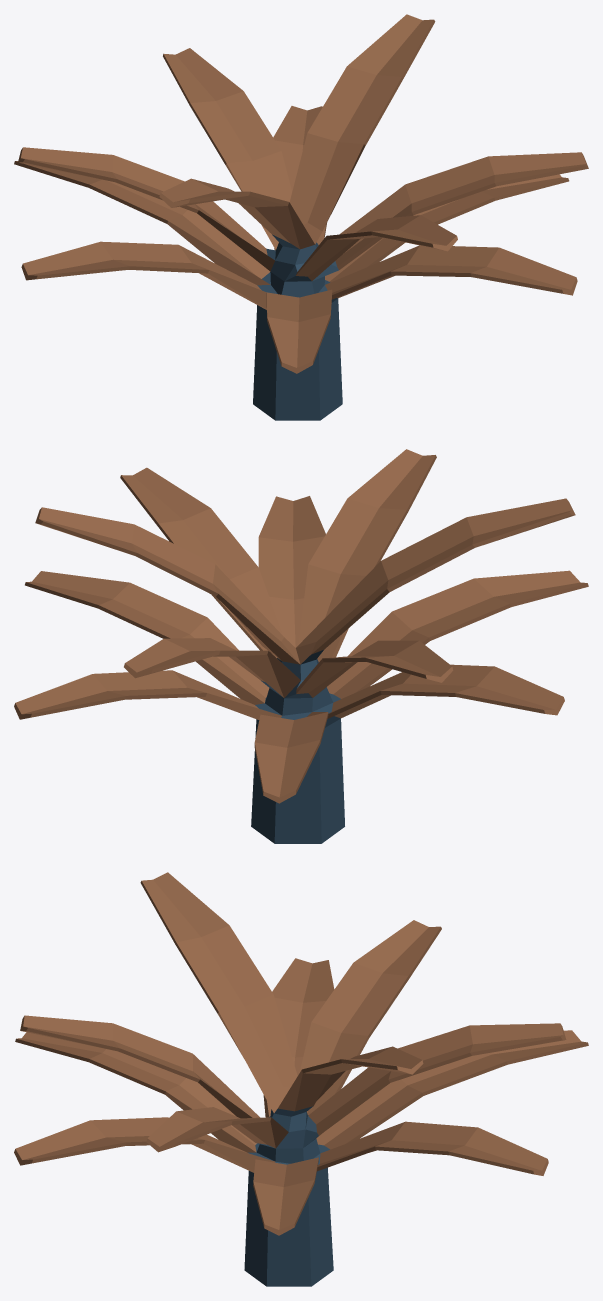
Rendered from SaguPalmShort.fbx.
3 views of the same model, one above another, from view 1: azimuth 30°, elevation 25°; view 2: azimuth 150°, elevation 25°; view 3: azimuth 270°, elevation 25° (orthographic). The views are drawn at different scales.
Parts seen in each view (by area): view 1: SaguPalmShort; view 2: SaguPalmShort; view 3: SaguPalmShort.
Part boxes in pixels (box(x1,y1,x2,y2)): SaguPalmShort: box(14, 14, 588, 420); SaguPalmShort: box(14, 449, 588, 843); SaguPalmShort: box(14, 872, 588, 1286).
Size of the model in its own units: 93.65 by 52.31 by 90.17.
